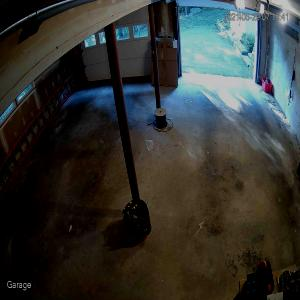tool bucket: (122, 198, 152, 243)
